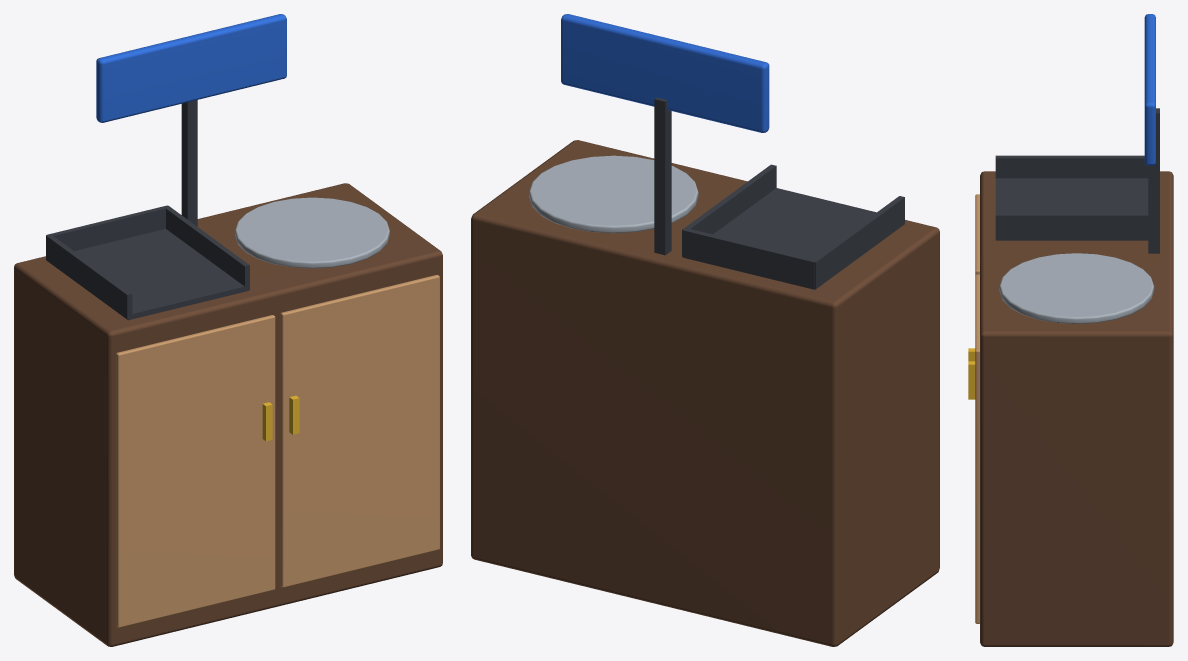
Rendered from DeliveryCabinet.fbx.
The picture shows the model from 3 angles, left to right: view 1: azimuth 30°, elevation 25°; view 2: azimuth 150°, elevation 25°; view 3: azimuth 270°, elevation 25°; orthographic projection. The views are drawn at different scales.
Parts seen in each view (by area): view 1: Cabinet.001, Door.004, Door.005, SignBoard, CoffeeTray, InboxBase, InboxSide, InboxBack, InboxSide.001, SignPost; view 2: Cabinet.001, SignBoard, CoffeeTray, InboxBase, InboxBack, InboxSide, SignPost, InboxSide.001; view 3: Cabinet.001, CoffeeTray, InboxBase, InboxSide.001, InboxSide, SignBoard, Door.005, SignPost, Door.004, Knob.001.
Boxes of the visible parts, box(x1,y1,x2,y2) form: Cabinet.001: box(14, 183, 442, 646); Door.004: box(116, 315, 275, 627); Door.005: box(280, 275, 439, 587); SignBoard: box(96, 14, 286, 122); CoffeeTray: box(235, 197, 389, 268); InboxBase: box(74, 229, 248, 320); InboxSide: box(46, 234, 132, 319); InboxBack: box(46, 205, 167, 250); InboxSide.001: box(163, 205, 249, 290); SignPost: box(181, 100, 197, 226); Cabinet.001: box(471, 140, 939, 646); SignBoard: box(561, 14, 769, 132); CoffeeTray: box(529, 155, 698, 233); InboxBase: box(683, 188, 876, 289); InboxBack: box(682, 228, 816, 289); InboxSide: box(811, 196, 904, 288); SignPost: box(654, 97, 671, 255); InboxSide.001: box(682, 164, 776, 256); Cabinet.001: box(980, 171, 1173, 646); CoffeeTray: box(999, 253, 1154, 323); InboxBase: box(995, 178, 1148, 240); InboxSide.001: box(995, 213, 1148, 239); InboxSide: box(995, 155, 1148, 178); SignBoard: box(1144, 14, 1155, 165); Door.005: box(975, 274, 979, 623); SignPost: box(1148, 108, 1159, 253); Door.004: box(975, 194, 979, 274); Knob.001: box(968, 361, 975, 399).
Bounding box in the file's own units: 1 × 1.45 × 0.53.
